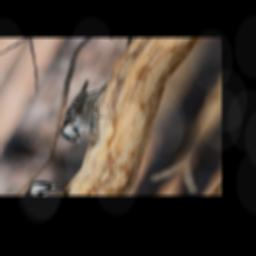Woodpecker: (53, 76, 124, 148)
